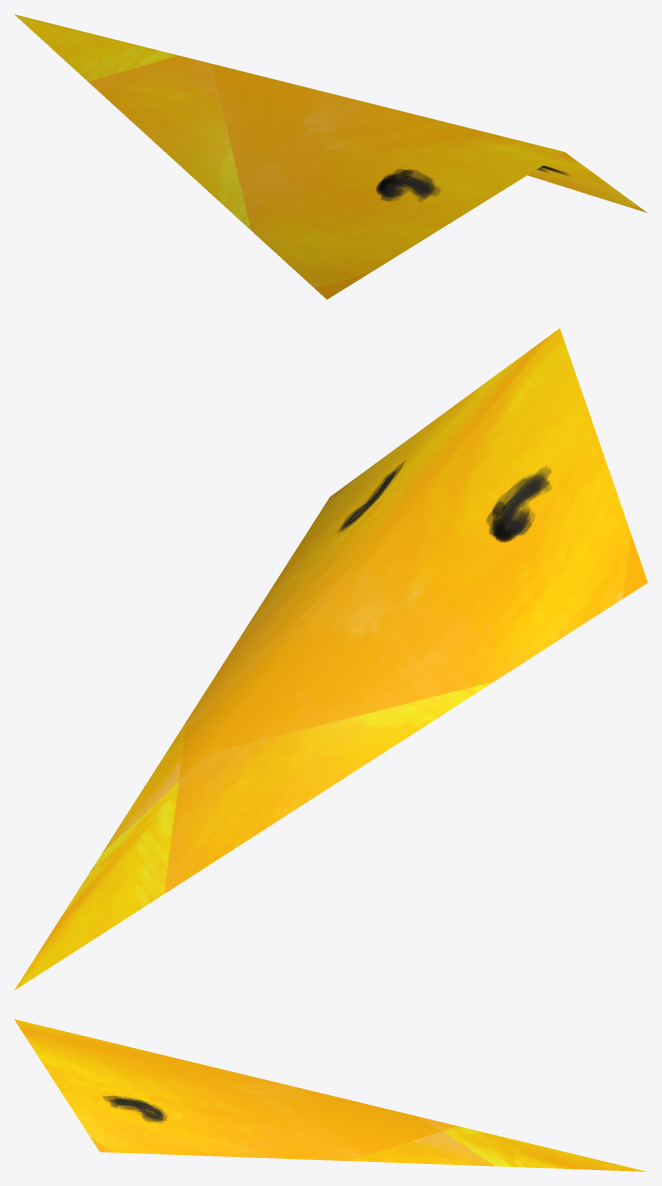
File: beak.FBX
The picture shows the model from 3 angles, top to bottom: view 1: azimuth 30°, elevation 25°; view 2: azimuth 150°, elevation 25°; view 3: azimuth 270°, elevation 25°; orthographic projection. The views are drawn at different scales.
Visible parts, largest first — view 1: Box001; view 2: Box001; view 3: Box001.
Part boxes in pixels (box(x1,y1,x2,y2)): Box001: box(14, 14, 646, 299); Box001: box(14, 328, 647, 990); Box001: box(14, 1019, 647, 1171).
Bounding box in the file's own units: 0.6014 × 0.4752 × 1.79.
Materials: 1 (1 with a texture image).
